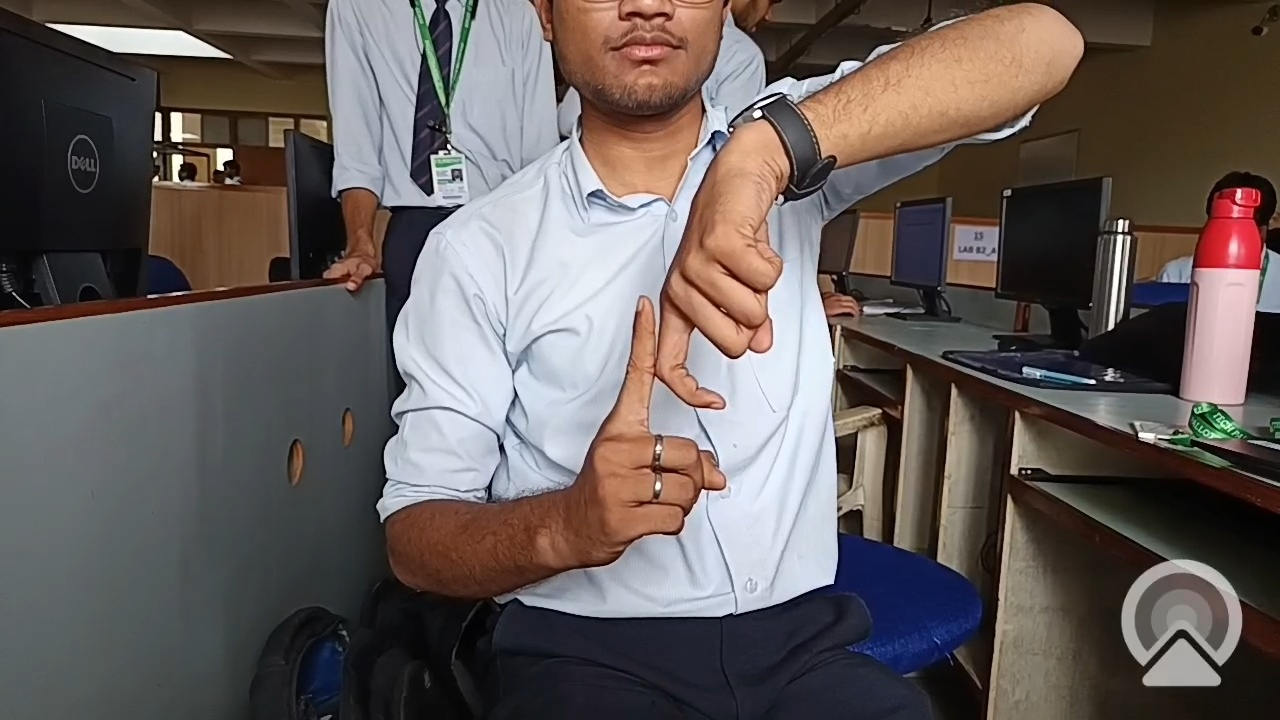K: (494, 155, 862, 612)
